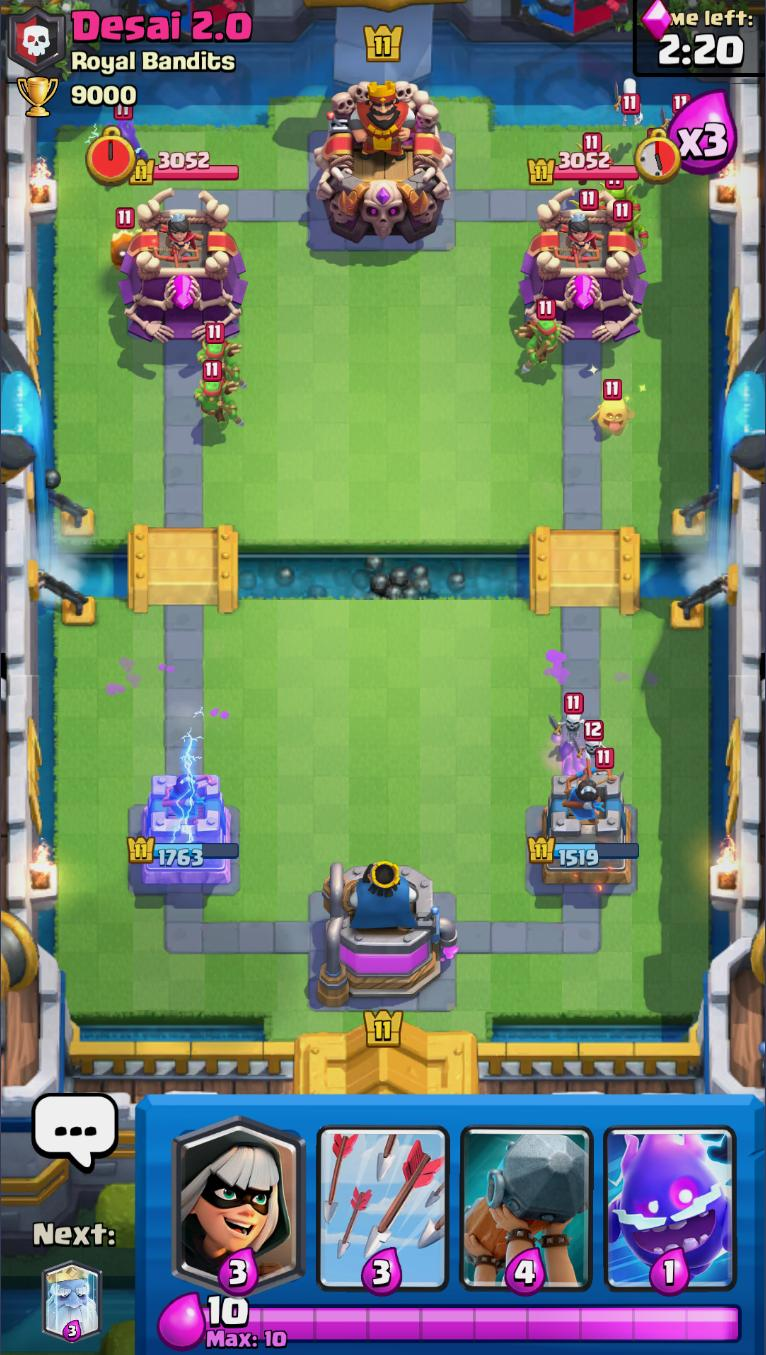ArrowDeck: (309, 1098, 456, 1293)
BanditDeck: (168, 1097, 312, 1294)
BattleRamDeck: (452, 1098, 599, 1296)
ElectroSpirit: (103, 103, 151, 169)
ElectroSpiritDeck: (598, 1098, 743, 1298)
Elixir: (204, 1291, 254, 1330)
EnemyTower: (113, 184, 254, 348), (518, 188, 650, 346)
FireSpirit: (110, 205, 139, 266)
Goblin: (610, 205, 654, 250), (601, 176, 636, 211)
HealSpirit: (585, 381, 639, 444)
KingTower: (309, 79, 459, 248)
MyKingTower: (310, 855, 463, 1018)
MyPrincessTower: (131, 761, 240, 893), (533, 771, 641, 893)
MyPrincessTowerHP: (130, 833, 241, 869), (530, 836, 641, 866)
PrincessTower: (553, 205, 605, 265), (152, 208, 203, 263)
RoyaleGhostNext: (41, 1256, 103, 1343)
Skeleton: (606, 68, 648, 136), (544, 695, 589, 748), (574, 721, 616, 769)
SpearGoblin: (194, 362, 238, 434), (196, 322, 239, 384), (525, 310, 566, 372)
TowerPrincessHP: (528, 150, 642, 186), (125, 151, 240, 184)
